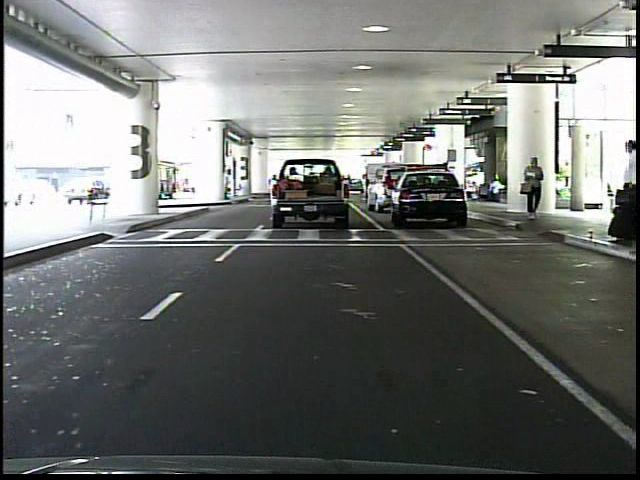person: (605, 136, 638, 242), (522, 150, 549, 226)
